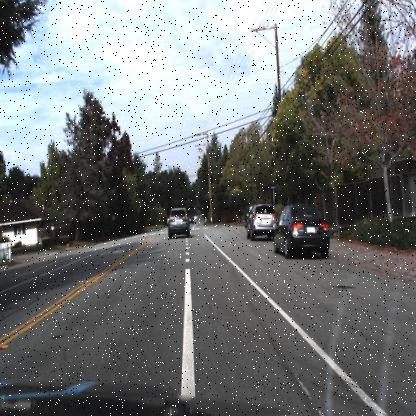car: (268, 198, 332, 266), (240, 200, 278, 247), (244, 200, 280, 244), (161, 202, 193, 243)
